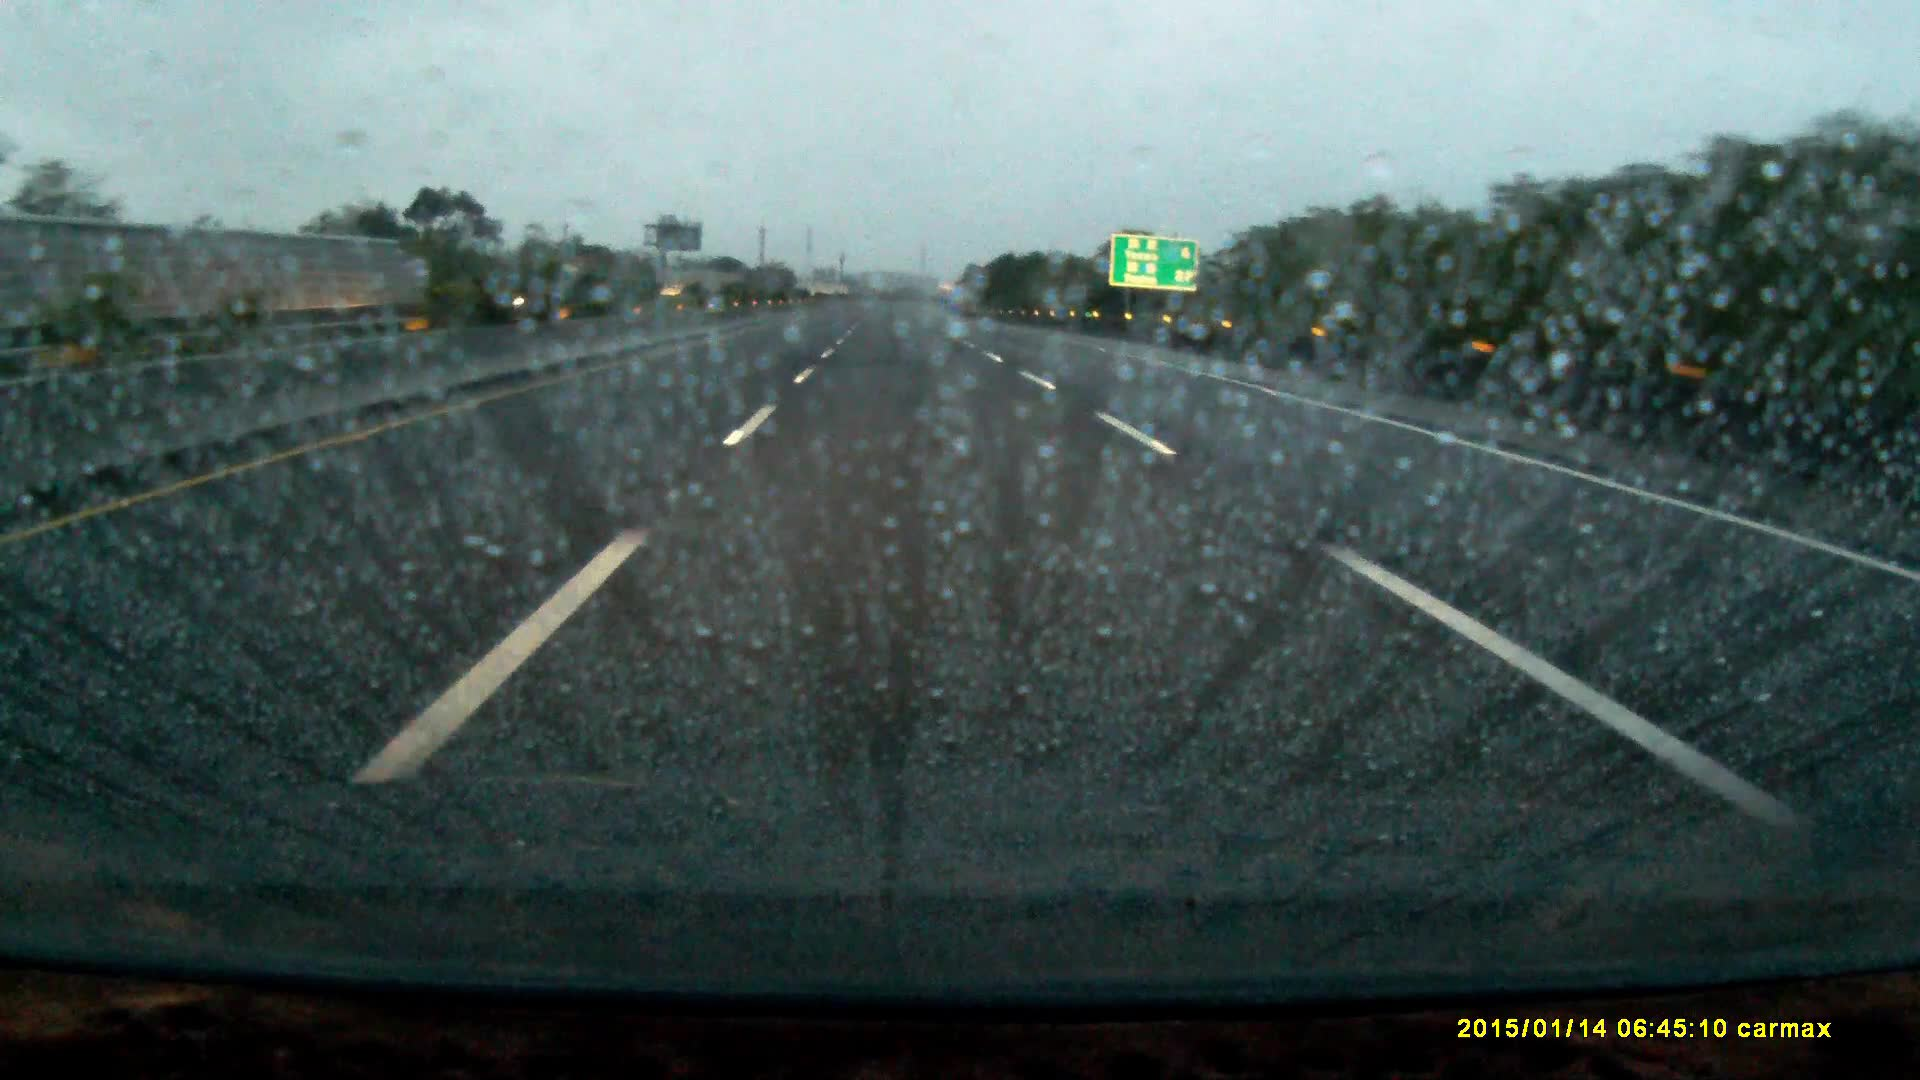vehicle: (513, 260, 604, 310)
